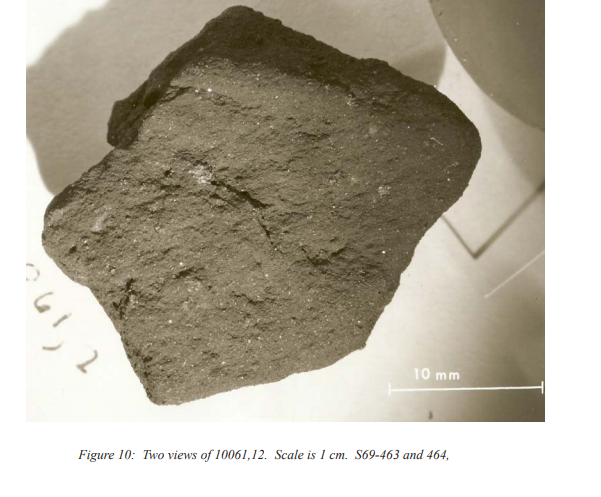Breccia: (47, 0, 494, 408)
